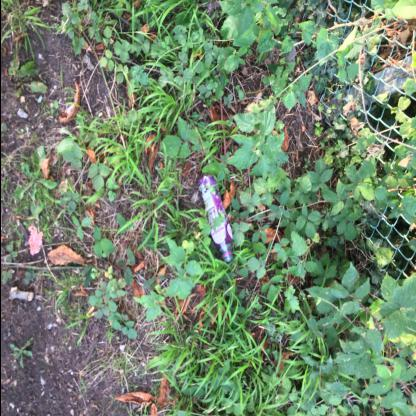plastik: (196, 173, 234, 263)
